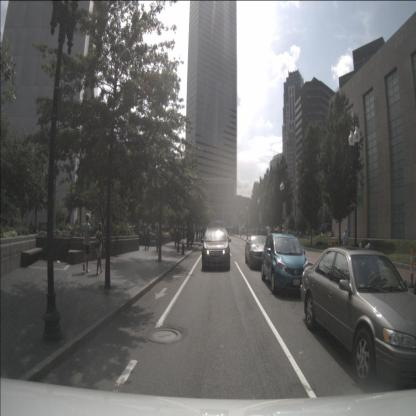human-pedestrian-adult: (94, 223, 105, 274), (82, 213, 91, 273), (342, 228, 348, 260), (145, 221, 150, 250), (155, 224, 159, 252), (174, 228, 178, 247), (179, 227, 182, 243), (267, 230, 270, 242)
movable_object-trafficcone: (407, 243, 415, 288)
vehicle-car: (300, 247, 416, 388), (261, 233, 310, 295), (202, 228, 230, 272), (245, 235, 272, 270)
